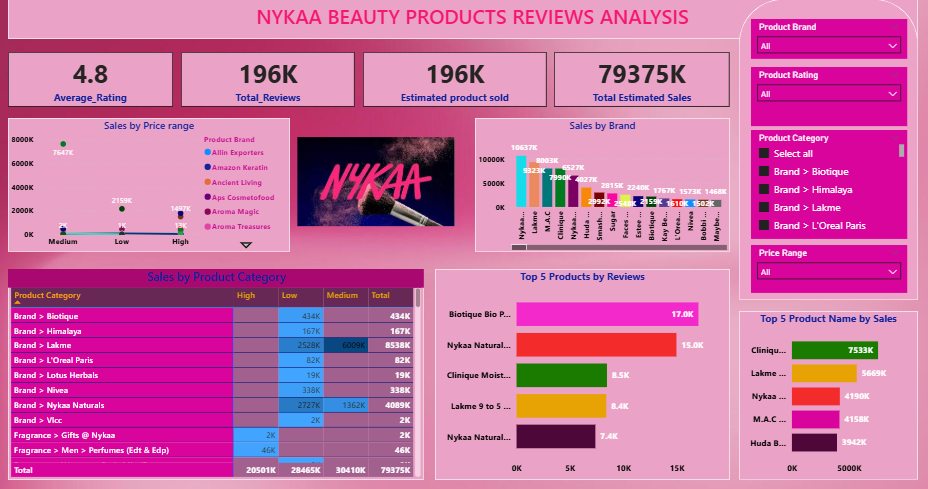

This screenshot's page, from the dashboard's own definition file:
{"tool":"powerbi","page":{"name":"Page 1","canvas":[1493,800],"ordinal":0},"visuals":[{"type":"card","fields":{"Values":["Nykaa_Product_Review_dataset.Total Estimated Sales"]},"box":[892,91.6,282.3,88.4],"z":0,"group":"g1"},{"type":"shape","box":[1188.8,507.6,287.6,271.5],"z":0},{"type":"card","fields":{"Values":["Nykaa_Product_Review_dataset.Total Products Sold (proxy)"]},"box":[584,91.6,295.2,88.4],"z":1000,"group":"g1"},{"type":"shape","box":[14.5,197.6,453,215.3],"z":1000},{"type":"shape","box":[14.5,0,1461.8,70.7],"z":2000},{"type":"card","fields":{"Values":["Nykaa_Product_Review_dataset.Total_Reviews"]},"box":[292,91.6,279.1,88.4],"z":2000,"group":"g1"},{"type":"card","fields":{"Values":["Nykaa_Product_Review_dataset.Average_Rating"]},"box":[14.5,91.6,264.7,88.4],"z":3000,"group":"g1"},{"type":"textbox","box":[35.3,6.4,1077.9,64.3],"z":3000},{"type":"image","box":[374.3,223.3,462.7,152.6],"z":4000},{"type":"shape","box":[1188.8,6.4,287.6,483.5],"z":5000},{"type":"group","id":"g1","title":"Group 1","box":[14.5,91.6,1159.8,88.4],"z":6000},{"type":"shape","box":[764.7,197.6,409.6,215.3],"z":7000},{"type":"shape","box":[14.5,467.5,668.3,311.6],"z":8000},{"type":"clusteredColumnChart","title":"Sales by Brand","fields":{"Category":["Nykaa_Product_Review_dataset.Product Brand"],"Y":["Nykaa_Product_Review_dataset.Total Estimated Sales"]},"box":[764.7,197.6,409.6,216.9],"z":9000},{"type":"shape","box":[700.4,440.2,473.9,339],"z":10000},{"type":"pivotTable","title":"Sales by Product Category","fields":{"Rows":["Nykaa_Product_Review_dataset.Product Category"],"Columns":["Nykaa_Product_Review_dataset.Price Range"],"Values":["Nykaa_Product_Review_dataset.Total Estimated Sales"]},"box":[14.5,440.2,668.3,339],"z":11000},{"type":"clusteredBarChart","title":"Top 5 Products by Reviews","fields":{"Category":["Nykaa_Product_Review_dataset.Product Name"],"Y":["Sum(Nykaa_Product_Review_dataset.Product Reviews Count)"]},"box":[700.4,440.2,473.9,339],"z":12000},{"type":"slicer","fields":{"Values":["Nykaa_Product_Review_dataset.Product Brand"]},"box":[1208,38.6,250.6,64.3],"z":13000},{"type":"slicer","fields":{"Values":["Nykaa_Product_Review_dataset.Product Category"]},"box":[1208,216.9,250.6,175.1],"z":14000},{"type":"slicer","fields":{"Values":["Nykaa_Product_Review_dataset.Price Range"]},"box":[1208,401.6,250.6,77.1],"z":15000},{"type":"slicer","fields":{"Values":["Nykaa_Product_Review_dataset.Product Rating"]},"box":[1208,115.7,250.6,94.8],"z":16000},{"type":"clusteredBarChart","title":"Top 5 Product Name by Sales ","fields":{"Y":["Nykaa_Product_Review_dataset.Total Estimated Sales"],"Category":["Nykaa_Product_Review_dataset.Product Name"]},"box":[1188.8,507.6,287.6,271.5],"z":17000},{"type":"lineChart","title":"Sales by Price range  ","fields":{"Category":["Nykaa_Product_Review_dataset.Price Range"],"Series":["Nykaa_Product_Review_dataset.Product Brand"],"Y":["Sum(Nykaa_Product_Review_dataset.Estimated Sales)"]},"box":[14.5,197.6,453,216.9],"z":18000}]}

Visuals, with their boxes in screenshot pixels (x1, y1, x2, y2), scaled from the page's 1493x800 canvas onto the 928x489 screenshot:
card - Nykaa_Product_Review_dataset.Total Estimated Sales: [554, 56, 730, 110]
shape: [739, 310, 918, 476]
card - Nykaa_Product_Review_dataset.Total Products Sold (proxy): [363, 56, 546, 110]
shape: [9, 121, 291, 252]
shape: [9, 0, 918, 43]
card - Nykaa_Product_Review_dataset.Total_Reviews: [181, 56, 355, 110]
card - Nykaa_Product_Review_dataset.Average_Rating: [9, 56, 174, 110]
textbox: [22, 4, 692, 43]
image: [233, 136, 520, 230]
shape: [739, 4, 918, 299]
"Group 1" group: [9, 56, 730, 110]
shape: [475, 121, 730, 252]
shape: [9, 286, 424, 476]
"Sales by Brand" clusteredColumnChart: [475, 121, 730, 253]
shape: [435, 269, 730, 476]
"Sales by Product Category" pivotTable: [9, 269, 424, 476]
"Top 5 Products by Reviews" clusteredBarChart: [435, 269, 730, 476]
slicer - Nykaa_Product_Review_dataset.Product Brand: [751, 24, 907, 63]
slicer - Nykaa_Product_Review_dataset.Product Category: [751, 133, 907, 240]
slicer - Nykaa_Product_Review_dataset.Price Range: [751, 245, 907, 293]
slicer - Nykaa_Product_Review_dataset.Product Rating: [751, 71, 907, 129]
"Top 5 Product Name by Sales " clusteredBarChart: [739, 310, 918, 476]
"Sales by Price range  " lineChart: [9, 121, 291, 253]
